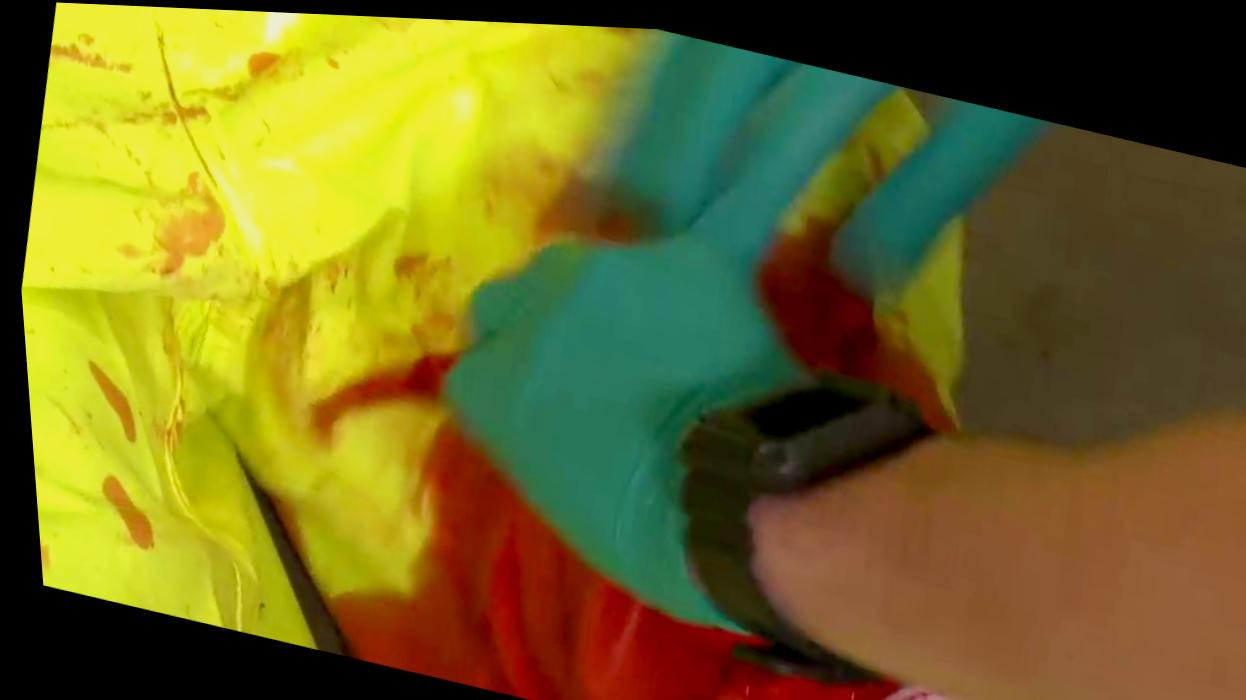Fire: (17, 2, 965, 700), (749, 80, 959, 420)
